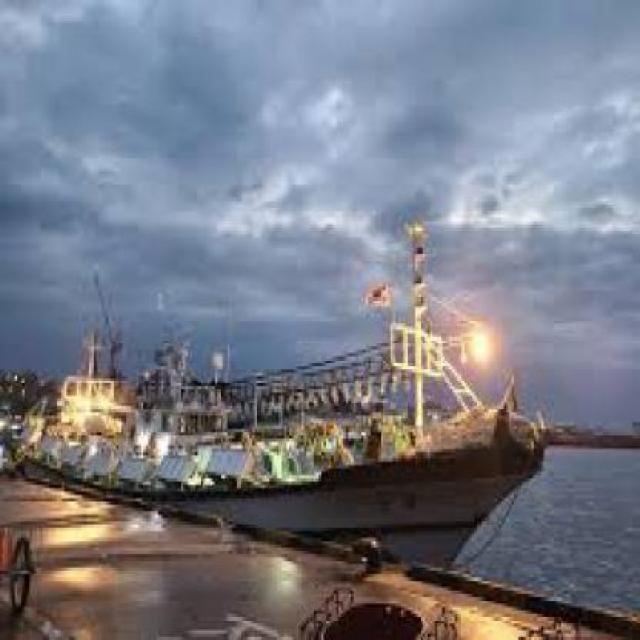fish-b: (1, 202, 559, 602)
